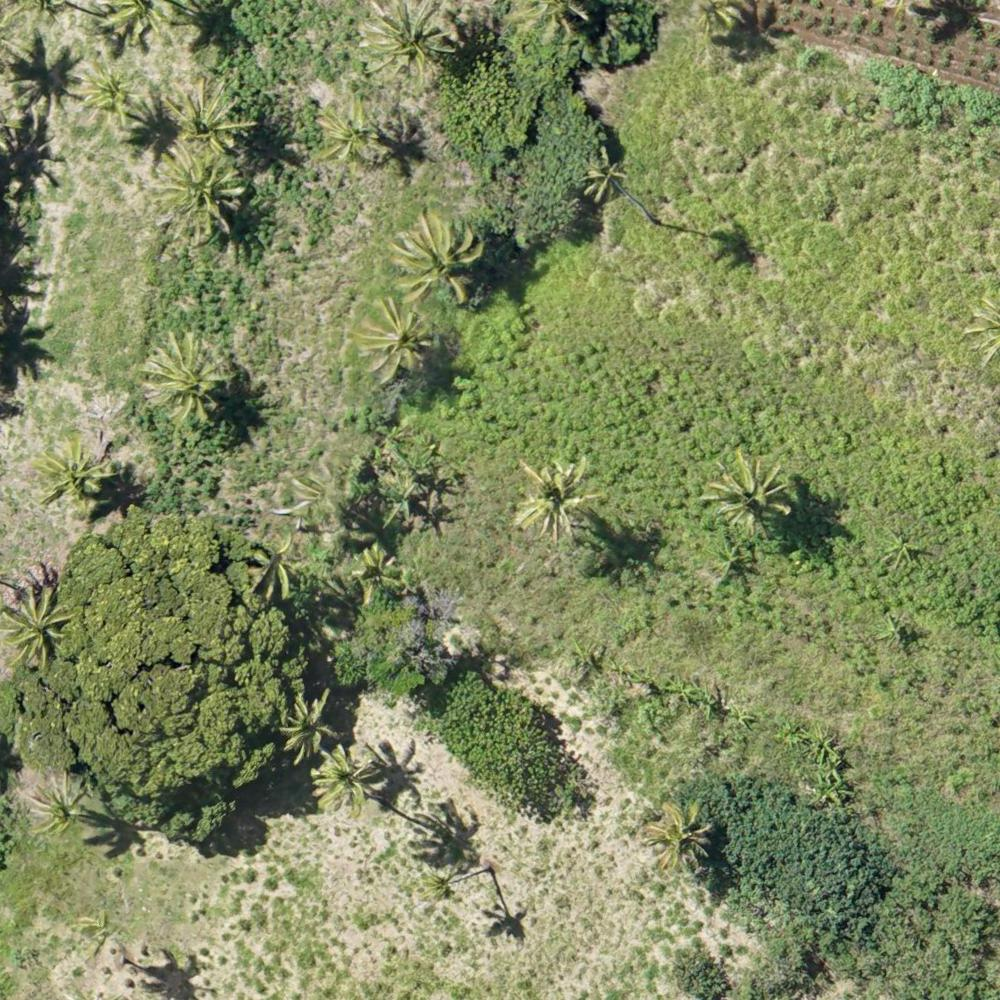Palm: (392, 209, 480, 304), (155, 146, 246, 235), (363, 4, 459, 86), (356, 296, 440, 382), (145, 332, 228, 418), (711, 450, 793, 531), (513, 459, 597, 536), (168, 73, 252, 149), (2, 589, 76, 671), (314, 91, 386, 163), (38, 441, 112, 511), (645, 799, 712, 868), (308, 749, 378, 813), (82, 62, 142, 128), (281, 696, 342, 759), (32, 774, 89, 835), (581, 155, 629, 201)
